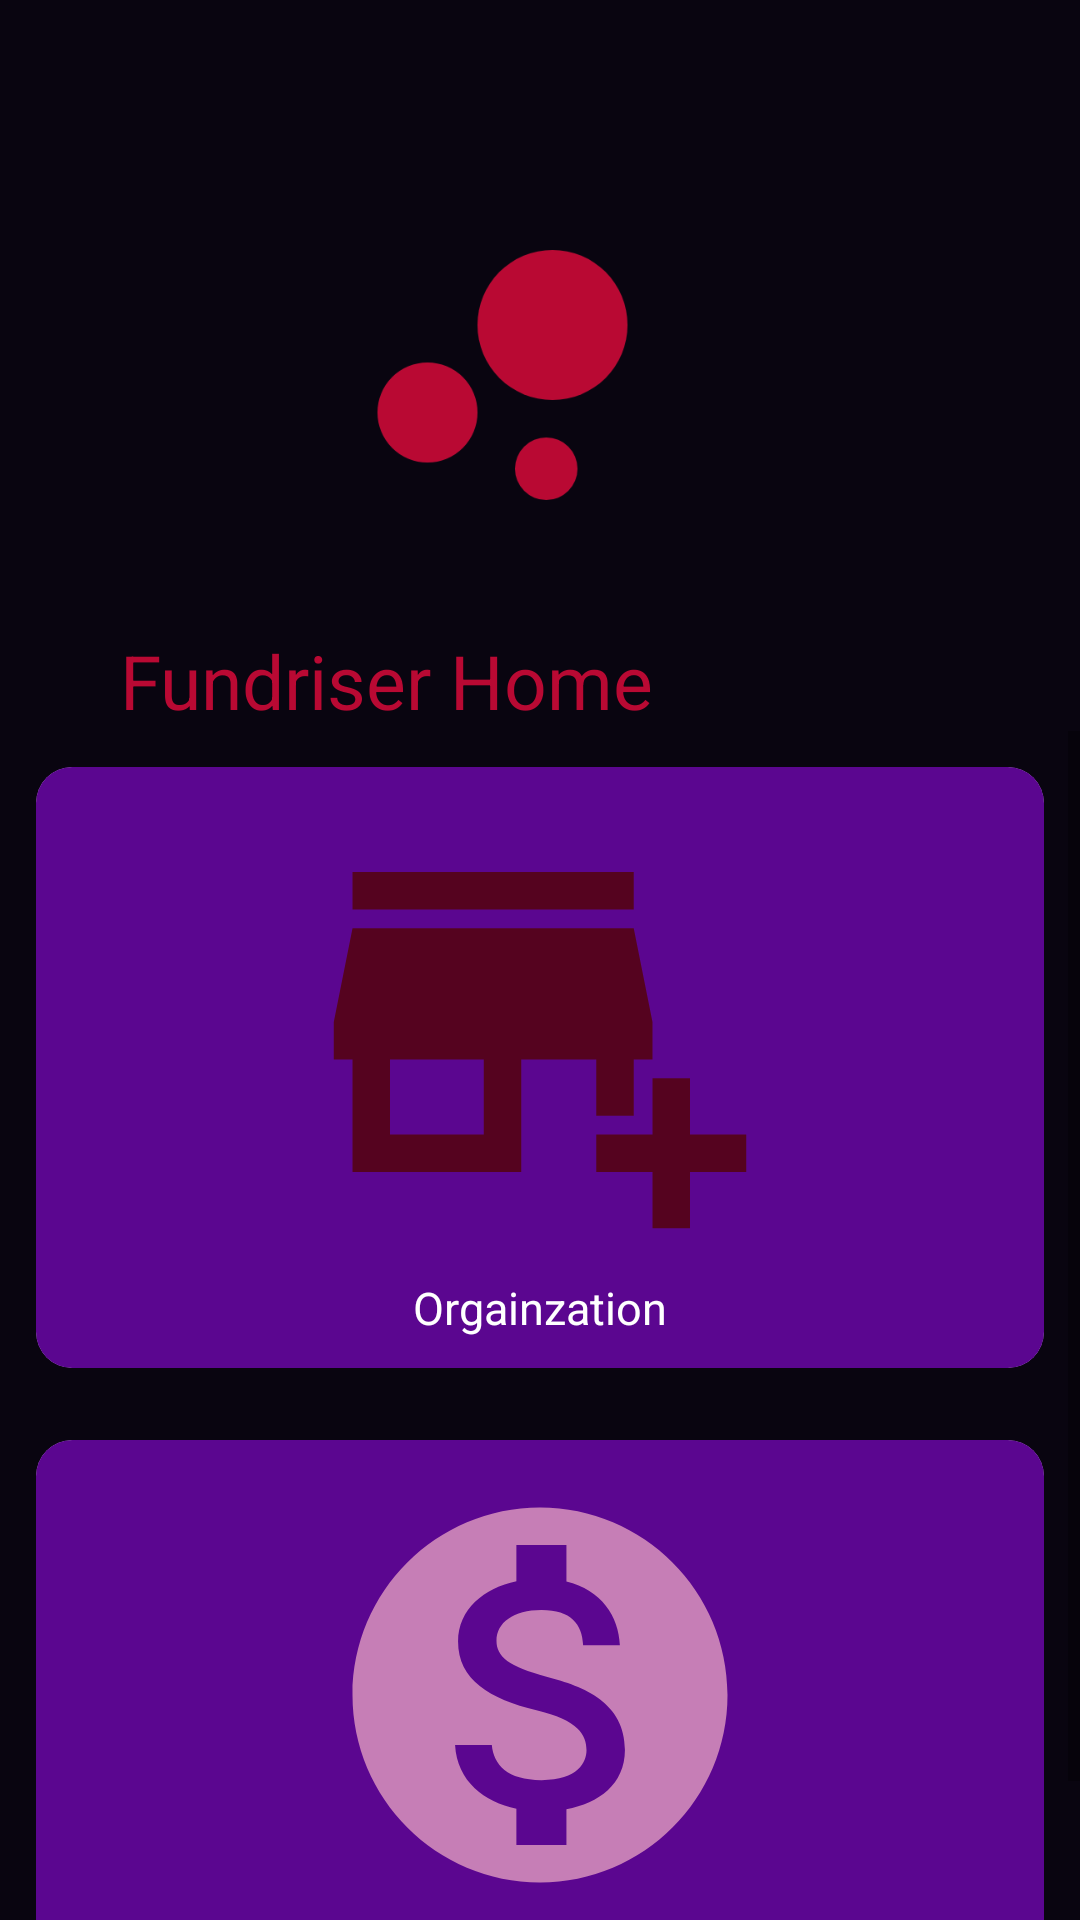

Icons on this 1080w x 1920h Android screen, each with the point to tap as (x,y):
bubble chart: (502,375)
